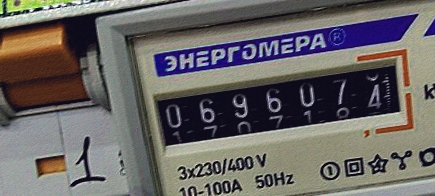0: (161, 98, 186, 129), (297, 76, 319, 107), (197, 94, 218, 122)
4: (364, 80, 385, 110)
6: (262, 81, 284, 113)
7: (329, 73, 351, 104)
9: (230, 88, 251, 118)
screen: (137, 42, 421, 165)
